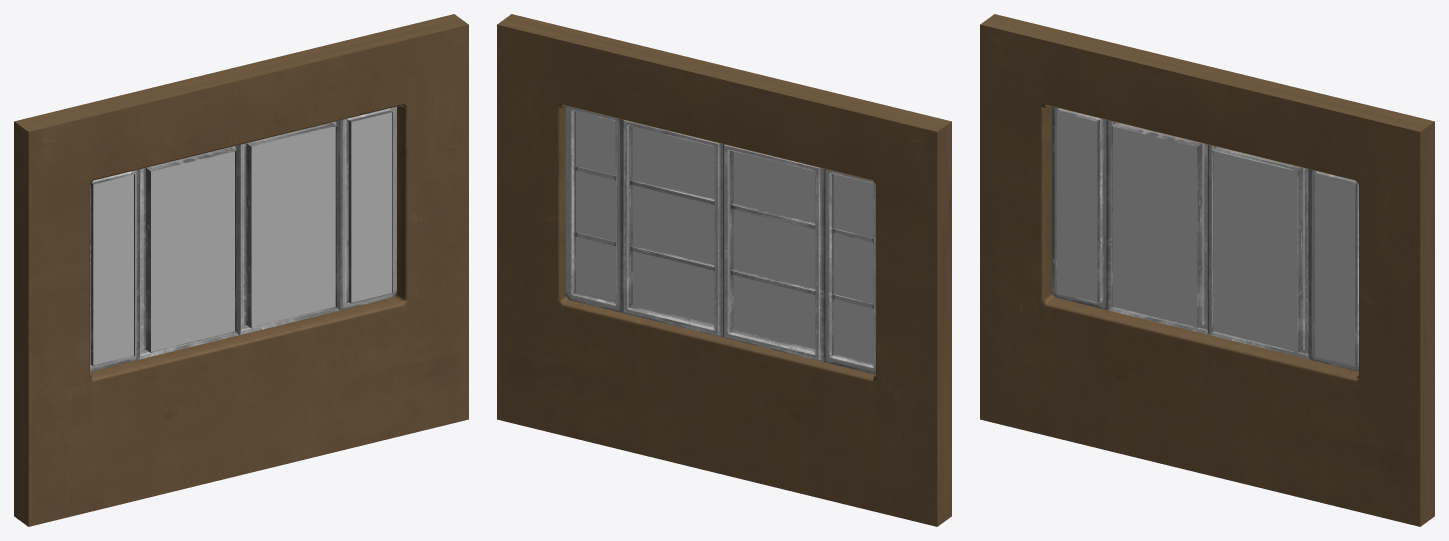
Rendered from SM_Building01Wall03R.fbx.
3 views of the same model, side by side, from view 1: azimuth 30°, elevation 25°; view 2: azimuth 150°, elevation 25°; view 3: azimuth 330°, elevation 25° (orthographic).
Parts seen in each view (by area): view 1: SM_Building01Wall03R_LOD0; view 2: SM_Building01Wall03R_LOD0; view 3: SM_Building01Wall03R_LOD0.
Part boxes in pixels (x1,y1,x2,y2): SM_Building01Wall03R_LOD0: (14, 14, 468, 526); SM_Building01Wall03R_LOD0: (497, 14, 951, 526); SM_Building01Wall03R_LOD0: (980, 14, 1434, 526).
Size of the model in its own units: 350 by 20 by 300.
3 materials, 2 textured.
